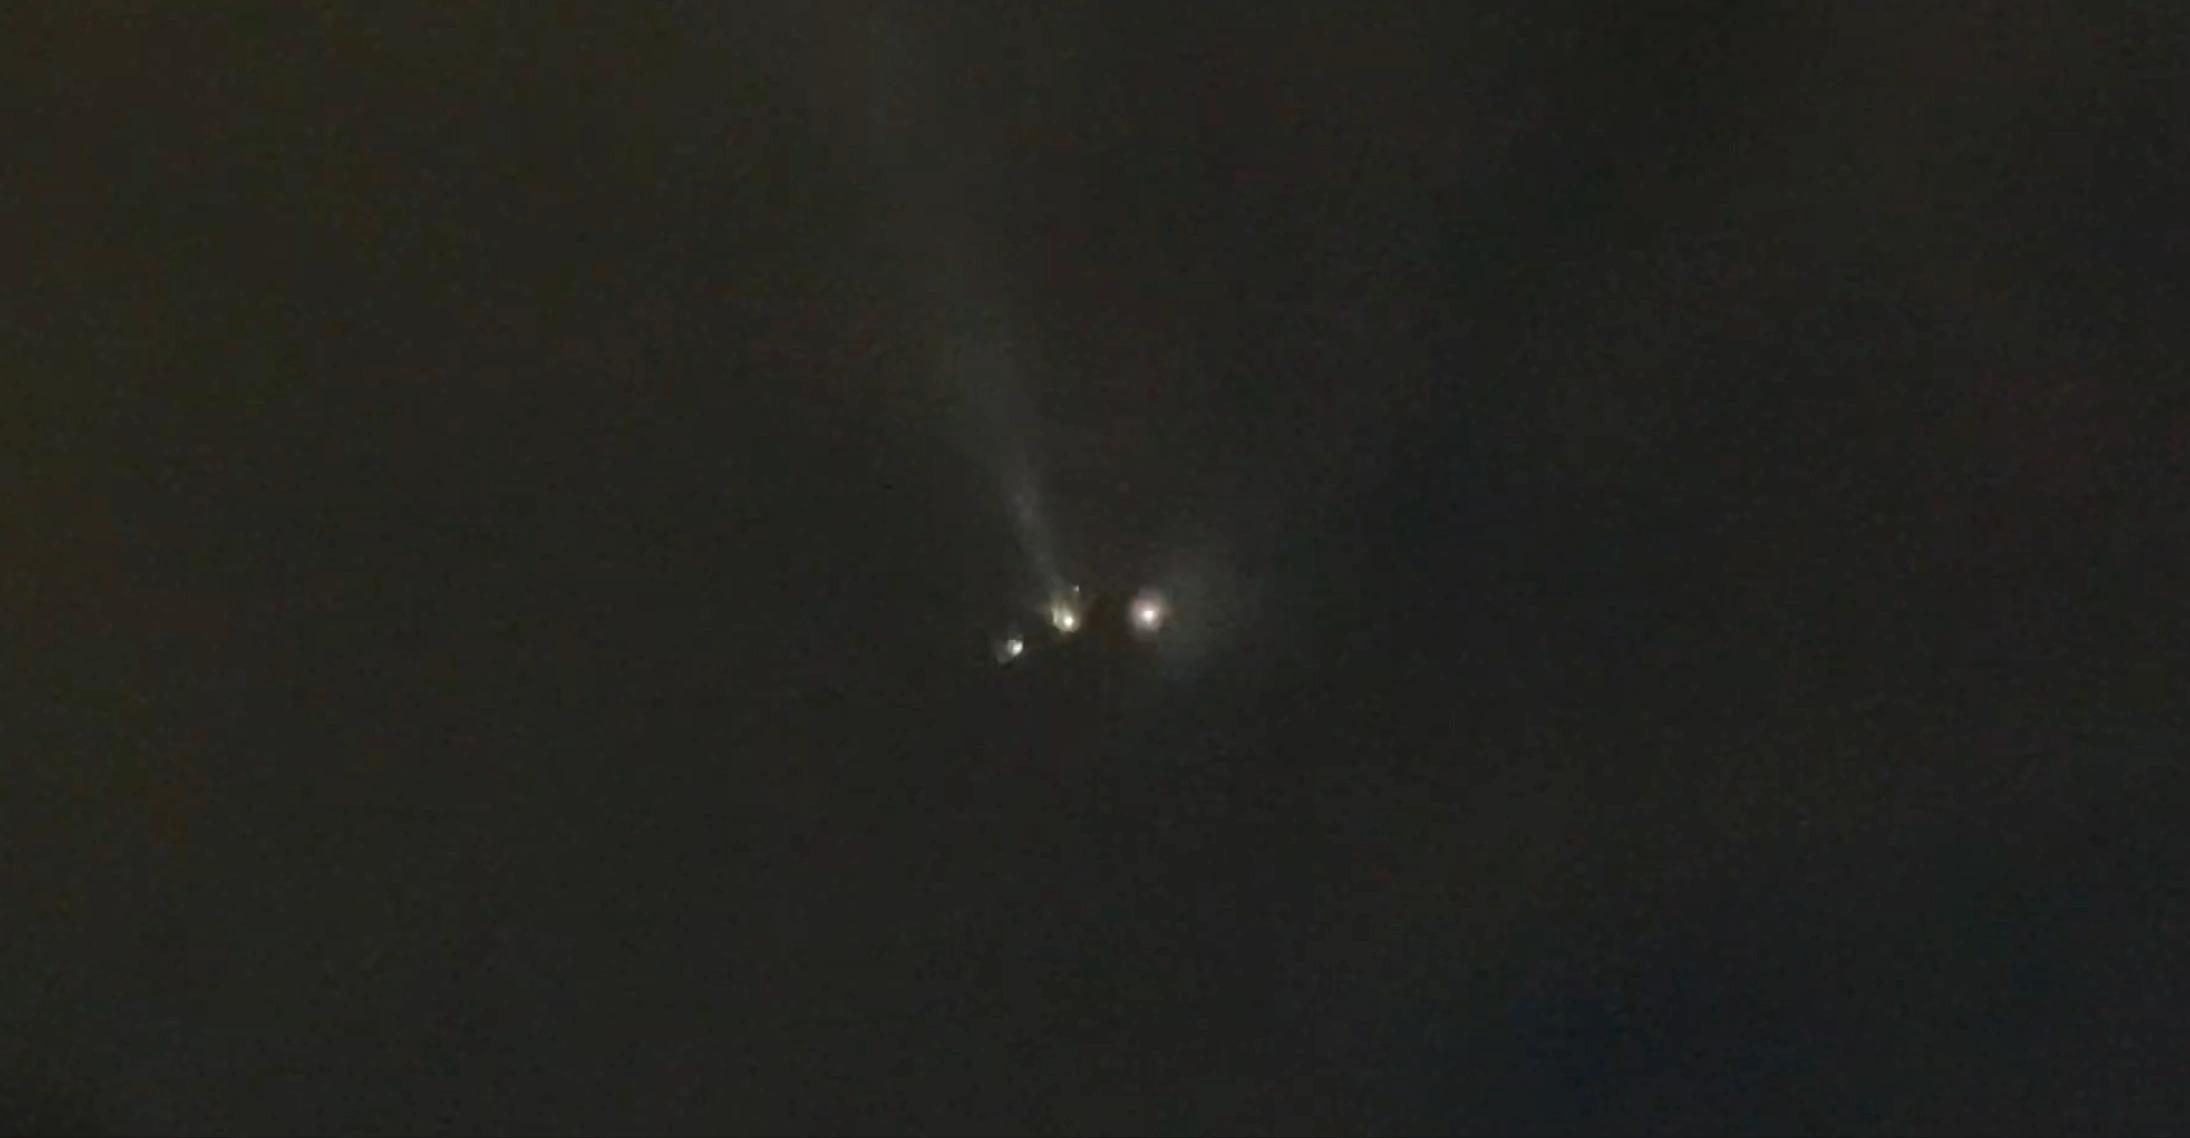Plane: (859, 495, 1298, 707)
